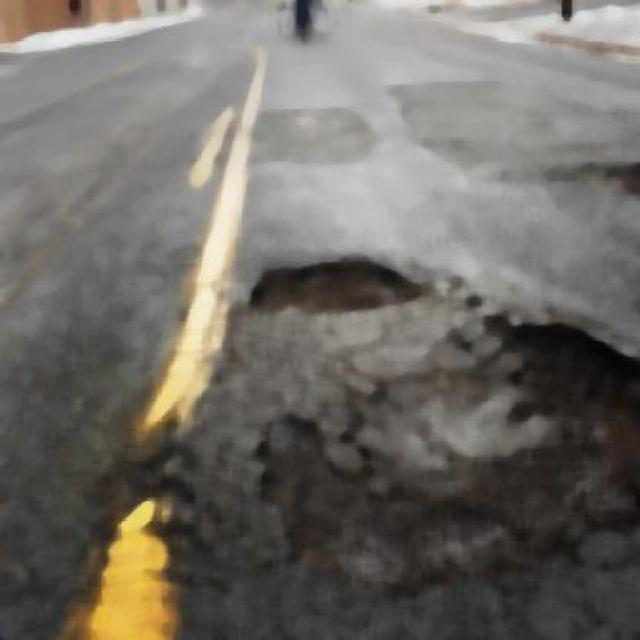Pothole: (482, 322, 638, 547), (258, 260, 410, 318), (591, 161, 638, 222)
